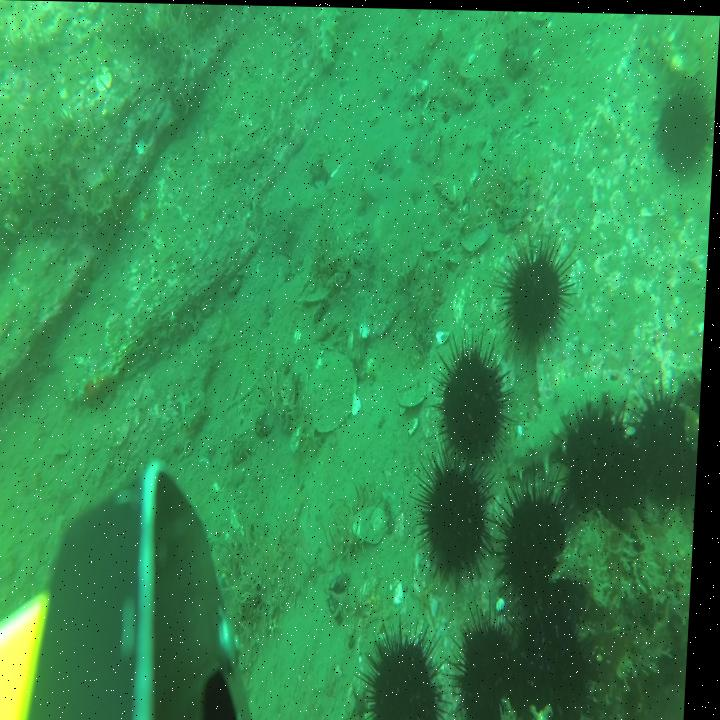echinus: (412, 437, 504, 596), (438, 319, 520, 474), (497, 465, 582, 611), (559, 391, 643, 537), (493, 222, 583, 356), (364, 616, 459, 720), (455, 594, 531, 720), (636, 368, 698, 513), (519, 613, 602, 720), (652, 76, 717, 182), (679, 372, 705, 504)
holothurian: (316, 6, 342, 69)
scallop: (312, 353, 360, 432), (356, 504, 394, 544), (401, 375, 431, 408)
